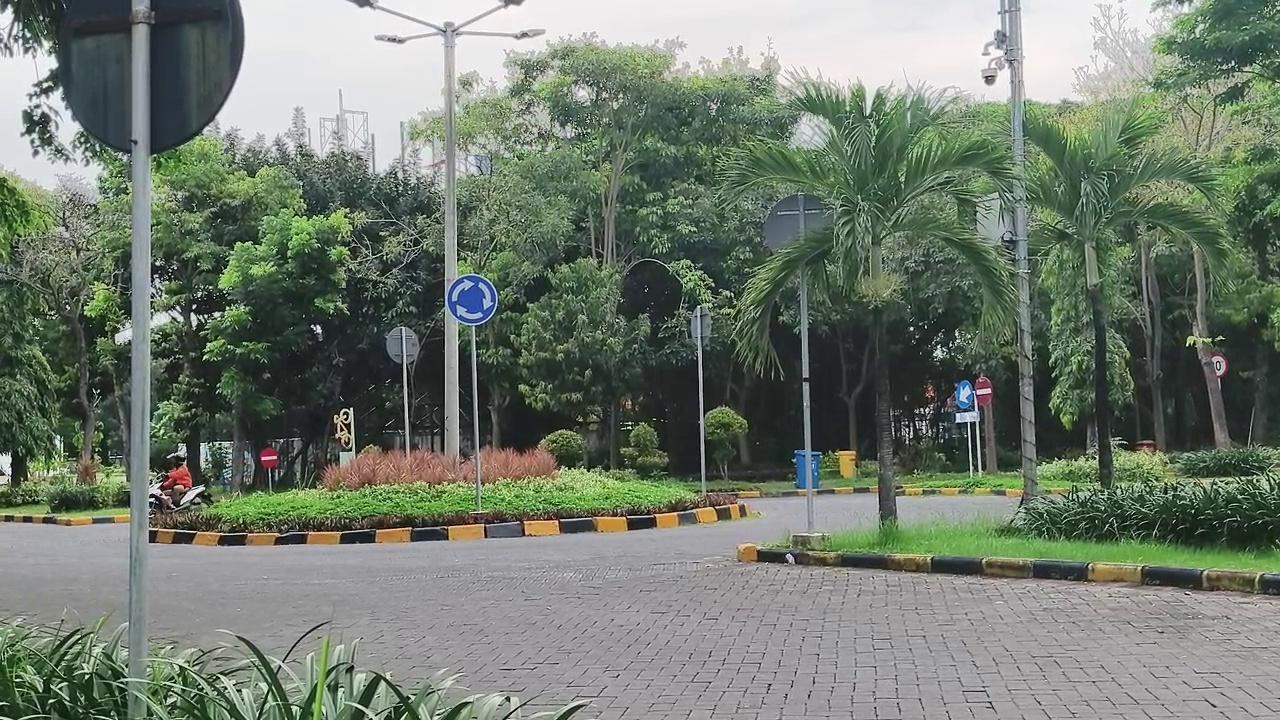Helmet: (161, 450, 192, 508)
Motor: (149, 480, 212, 514)
